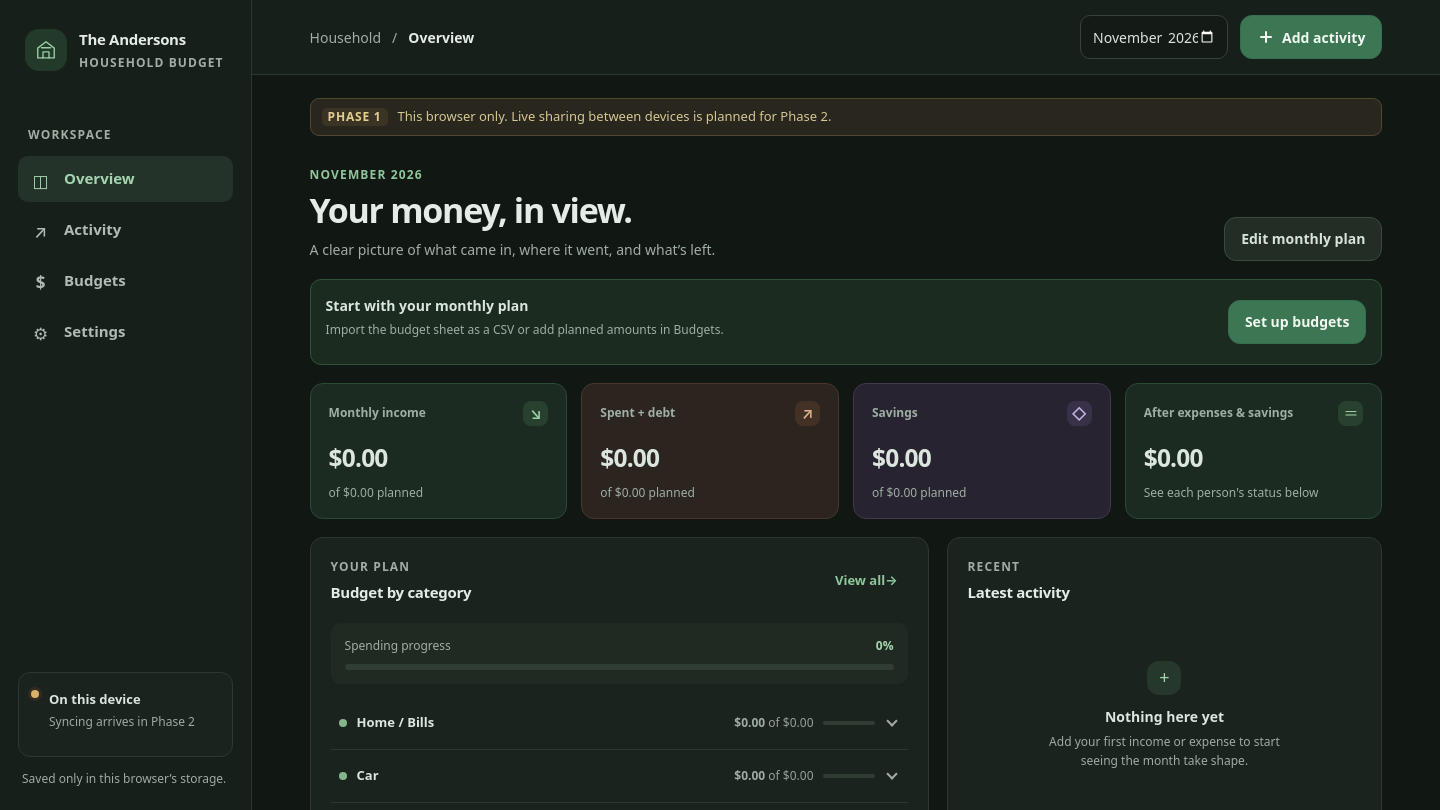
Test: budget app phase 1 › surfaces invalid activity amounts without saving
Click the button "Add activity" at [1311, 37], box [1240, 15, 1382, 59]
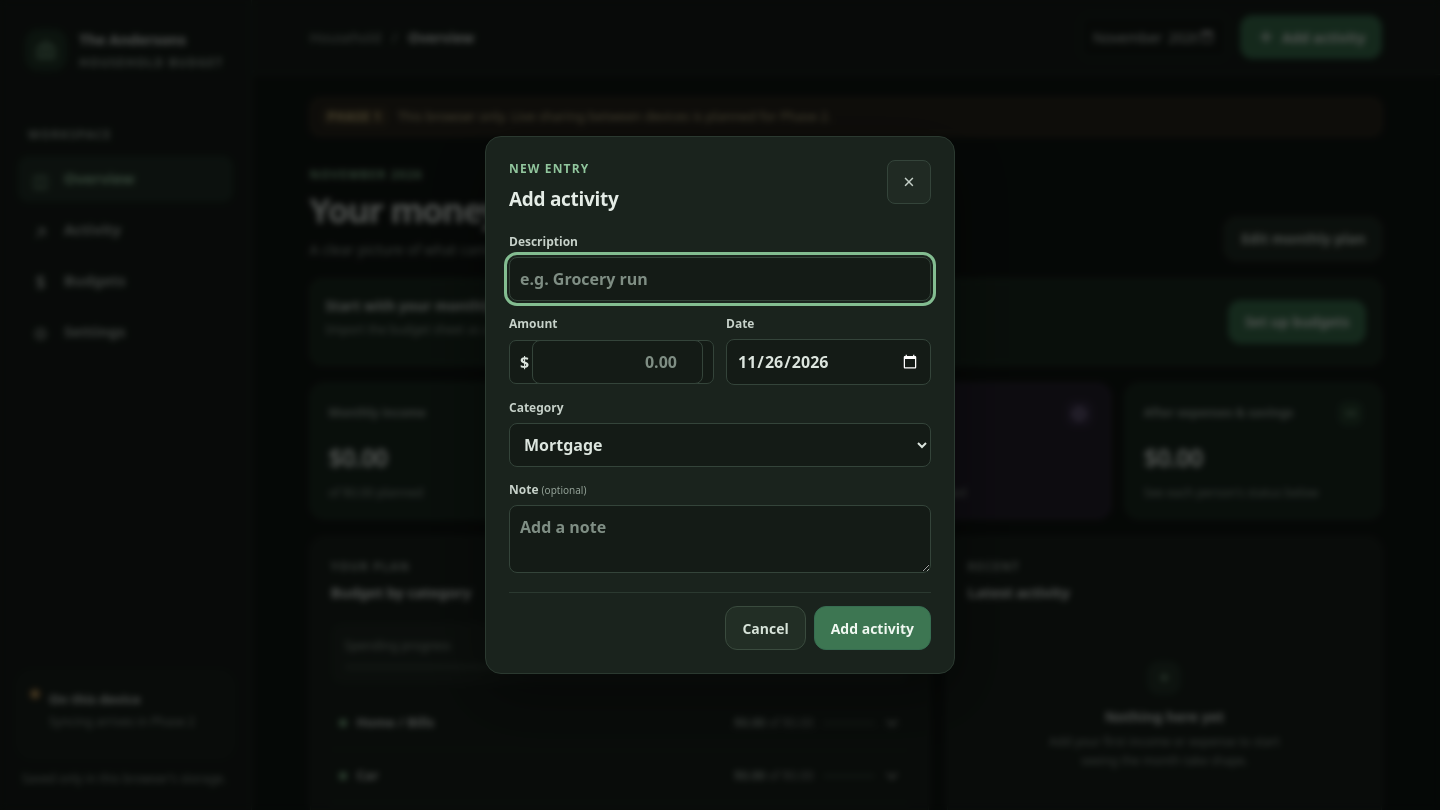
Type "Coffee" into the field labelled "Description" at [720, 279], box [509, 257, 931, 301]
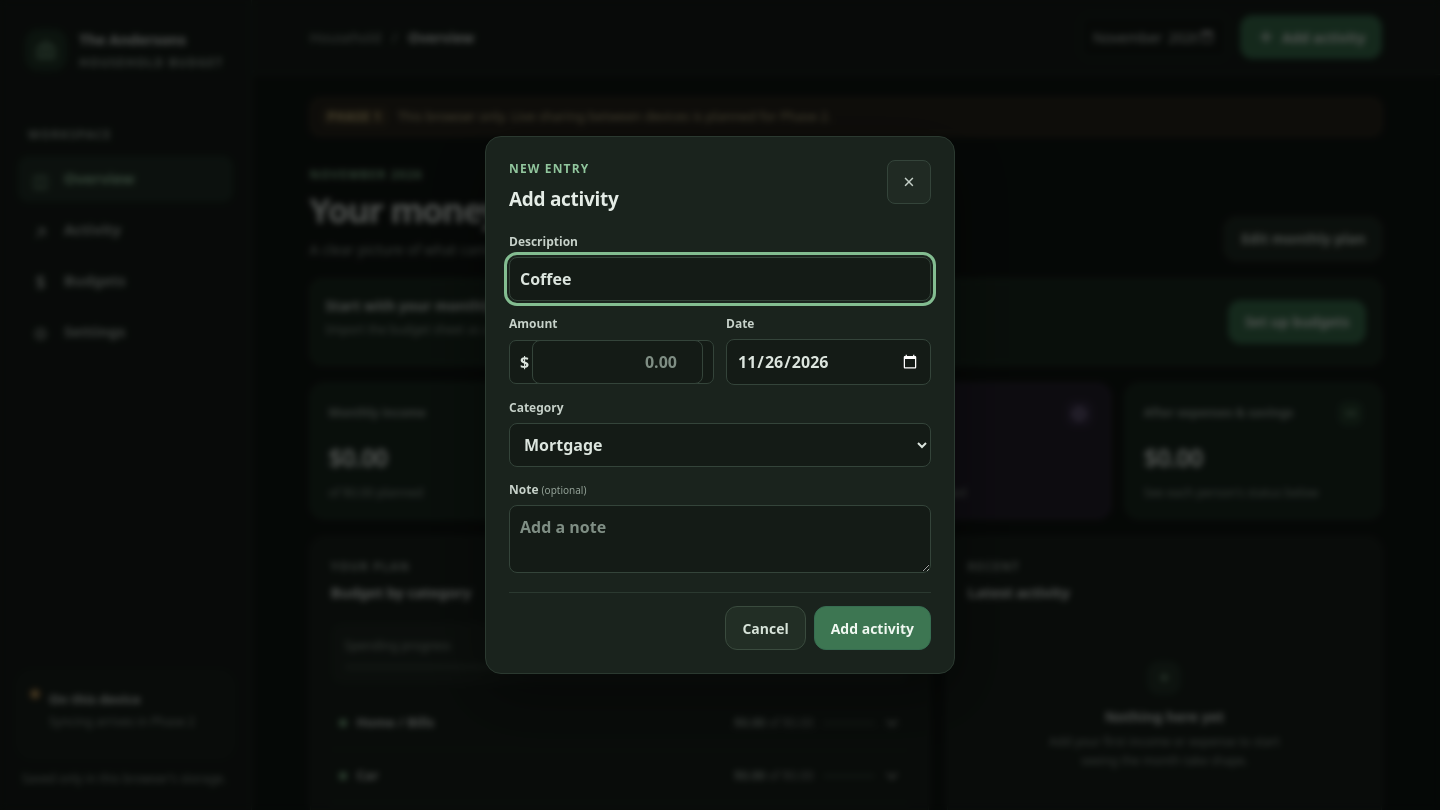
Type "0" into the number field labelled "Amount $" at [618, 362], box [532, 340, 703, 384]
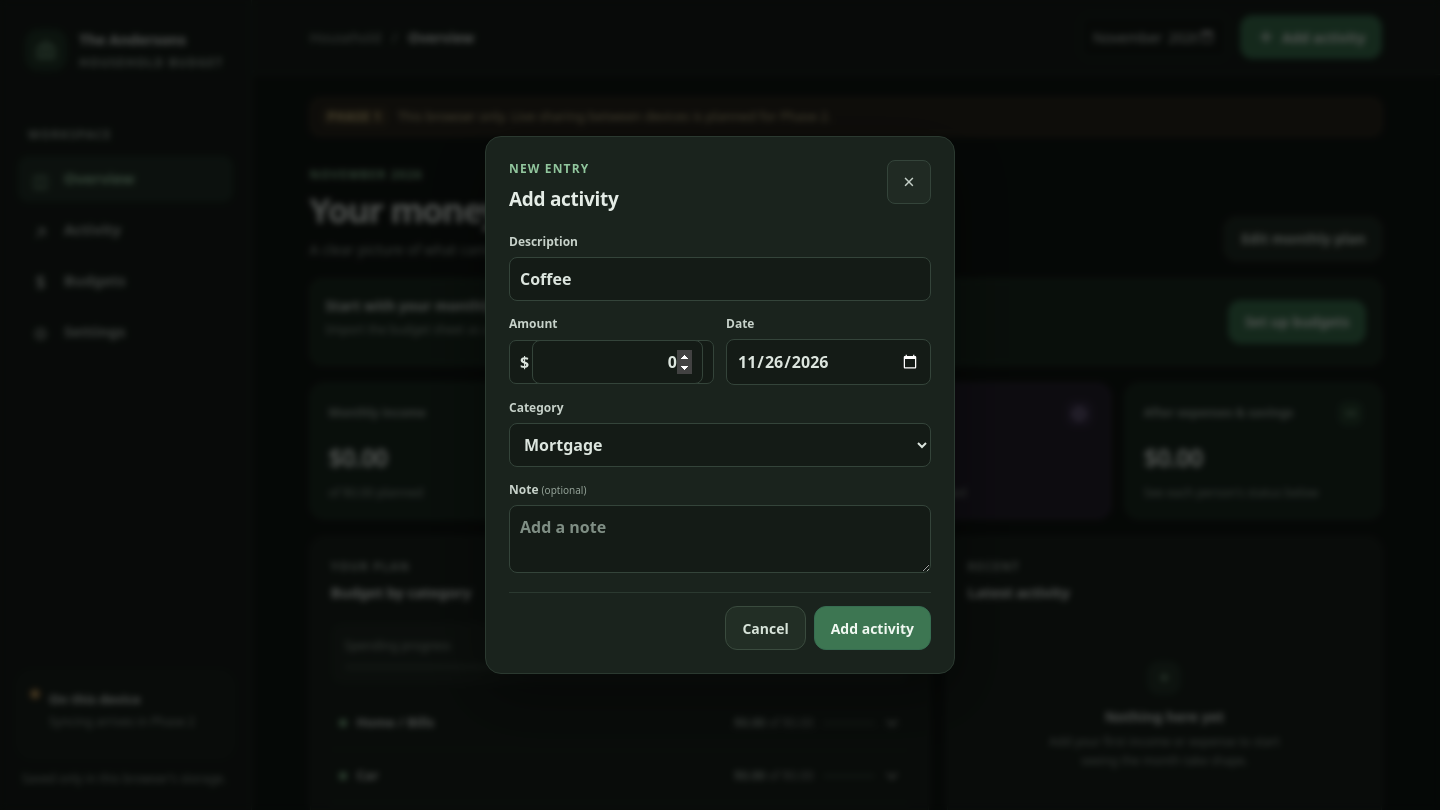
Submit the form, box [509, 233, 931, 650]
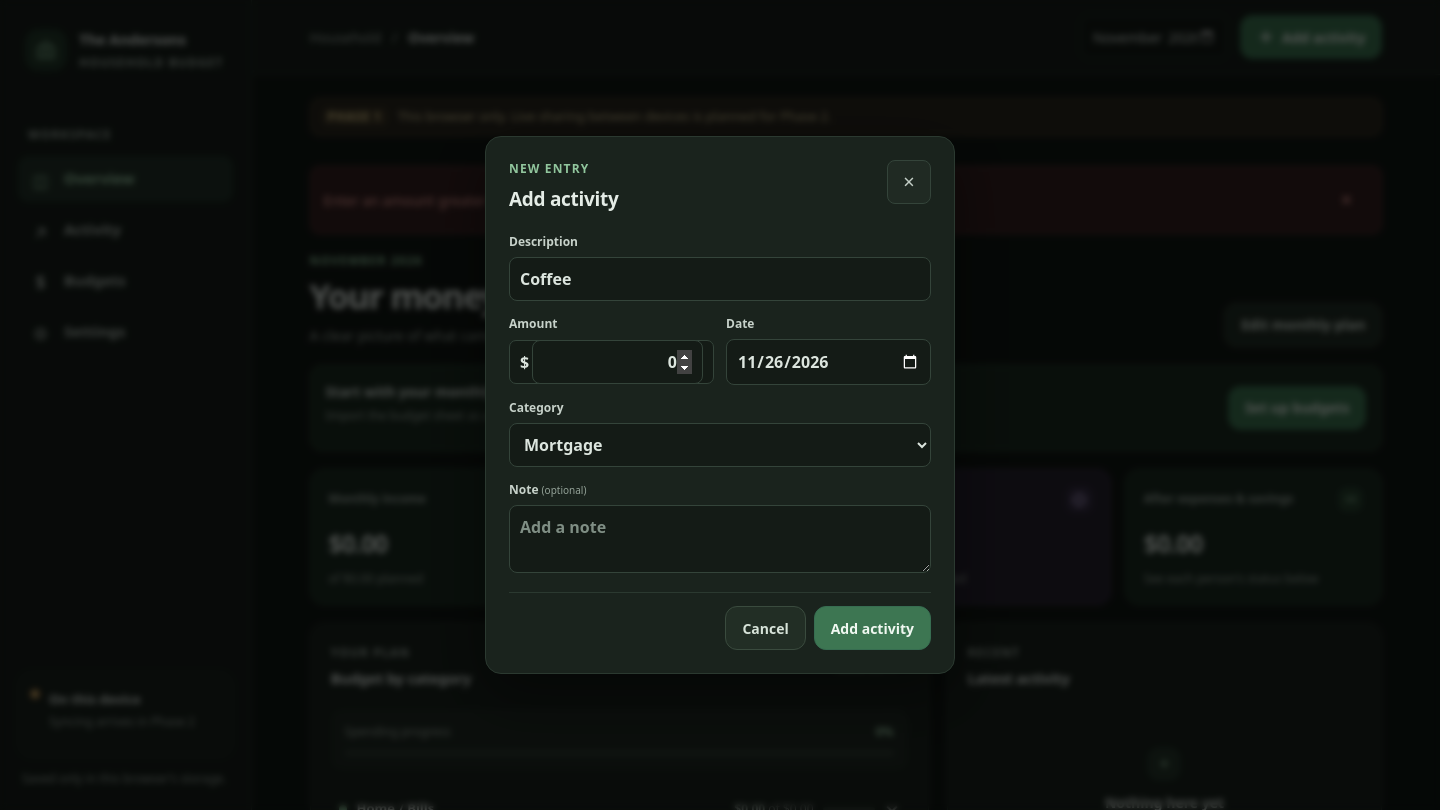
Expected: the message shows "greater than zero", [324, 190, 810, 210]
